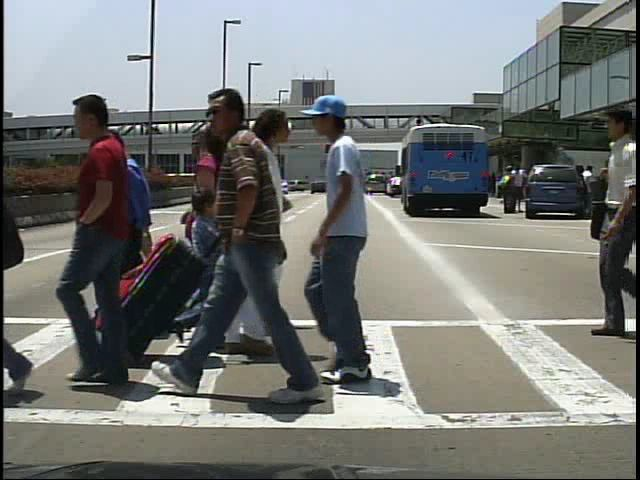person: (191, 84, 327, 423), (46, 91, 161, 389), (182, 101, 296, 363), (312, 104, 411, 385), (83, 122, 167, 342), (217, 134, 291, 330), (581, 104, 640, 342), (187, 121, 245, 361), (180, 129, 252, 322), (184, 186, 226, 318), (582, 164, 602, 218), (498, 166, 516, 219), (514, 165, 530, 215)
